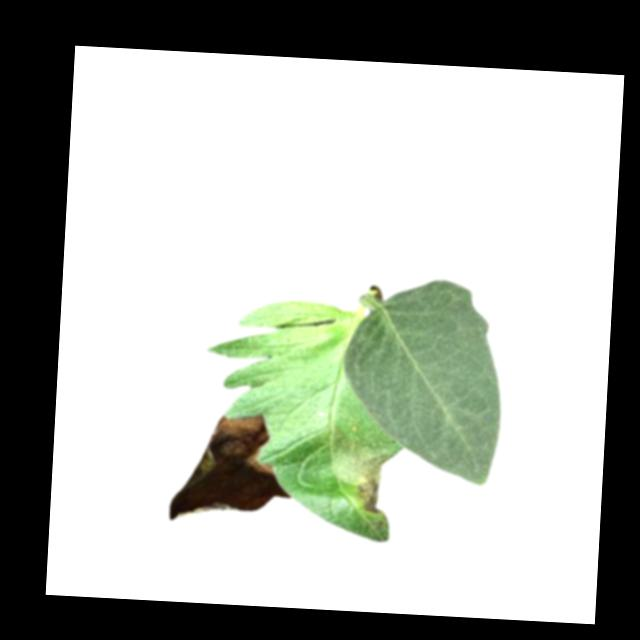Late_blight: (167, 409, 297, 527), (325, 430, 394, 516)
healthy: (335, 272, 509, 488)
